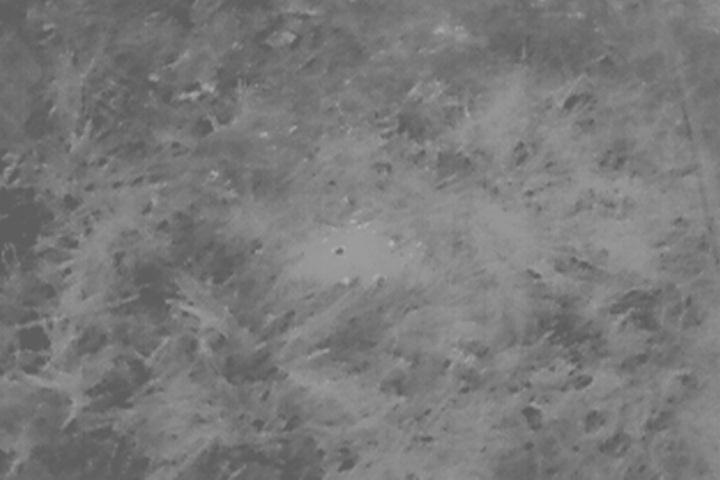landmine: (305, 228, 384, 283)
